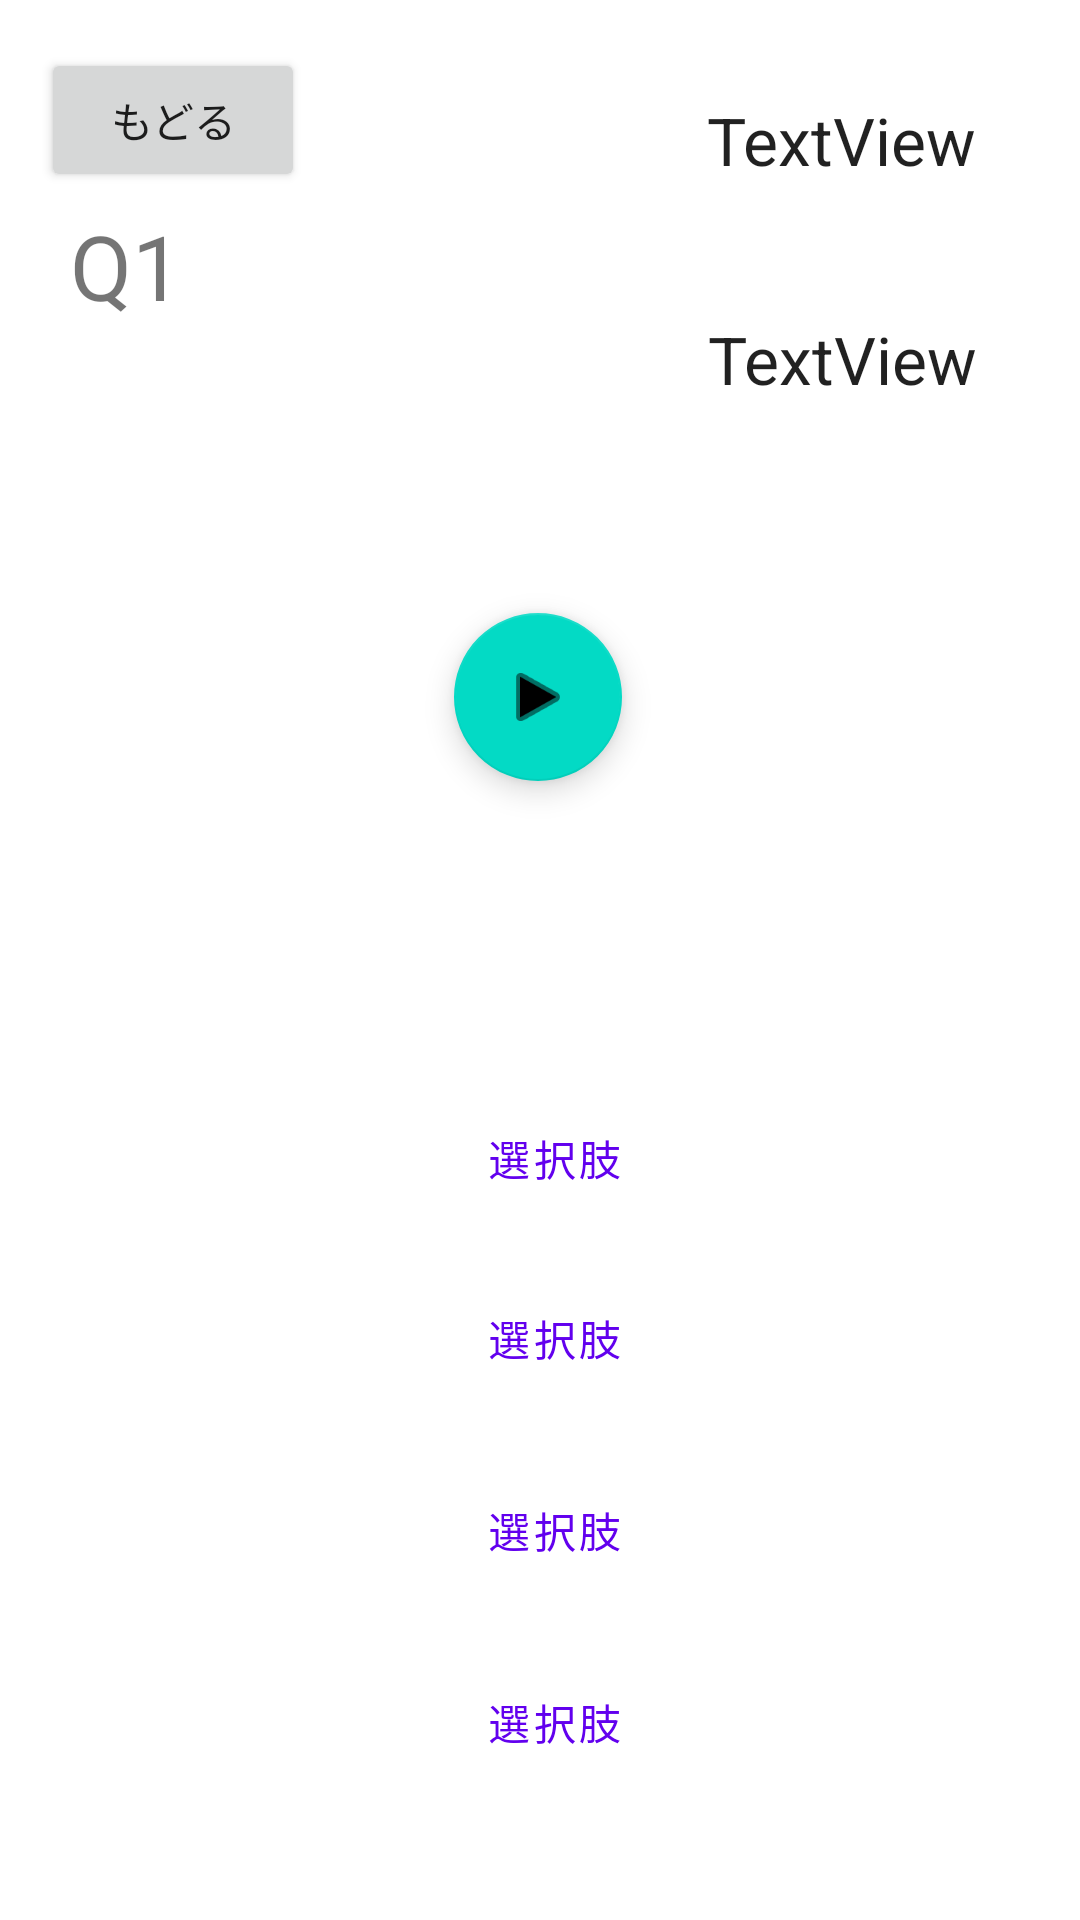

Locate icon controls on the screen. Image size 1080 x 1920, boxes as box(x1, y1, x2, y2).
play: box(454, 613, 622, 781)
